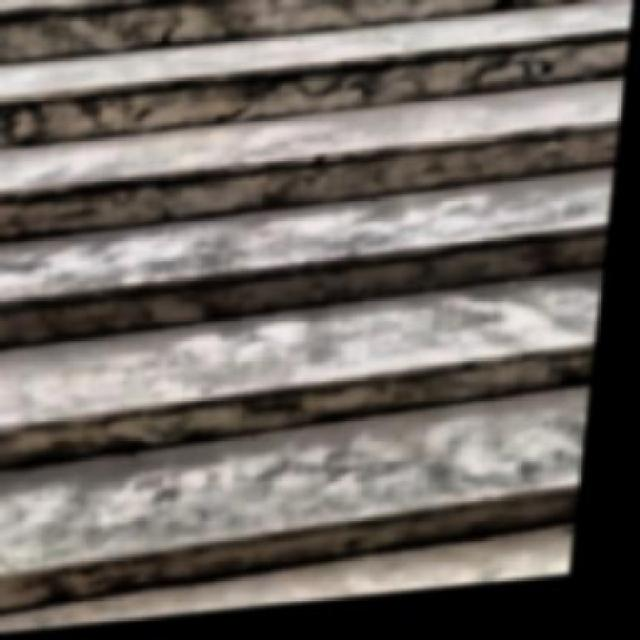stair: (0, 0, 638, 591)
